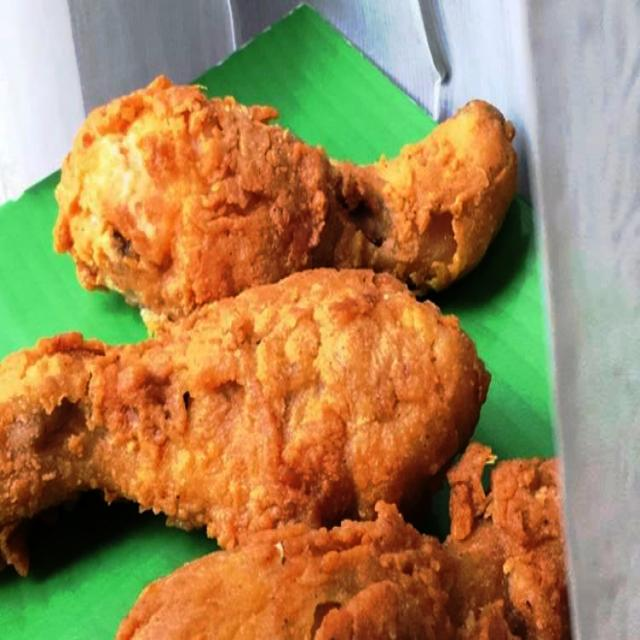fried_chicken: (0, 265, 486, 545), (53, 58, 525, 310), (111, 440, 578, 640)
